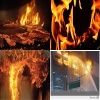fire: (50, 0, 100, 49), (53, 51, 92, 74), (27, 50, 48, 88), (19, 0, 40, 25), (9, 59, 21, 100), (41, 21, 44, 27)
